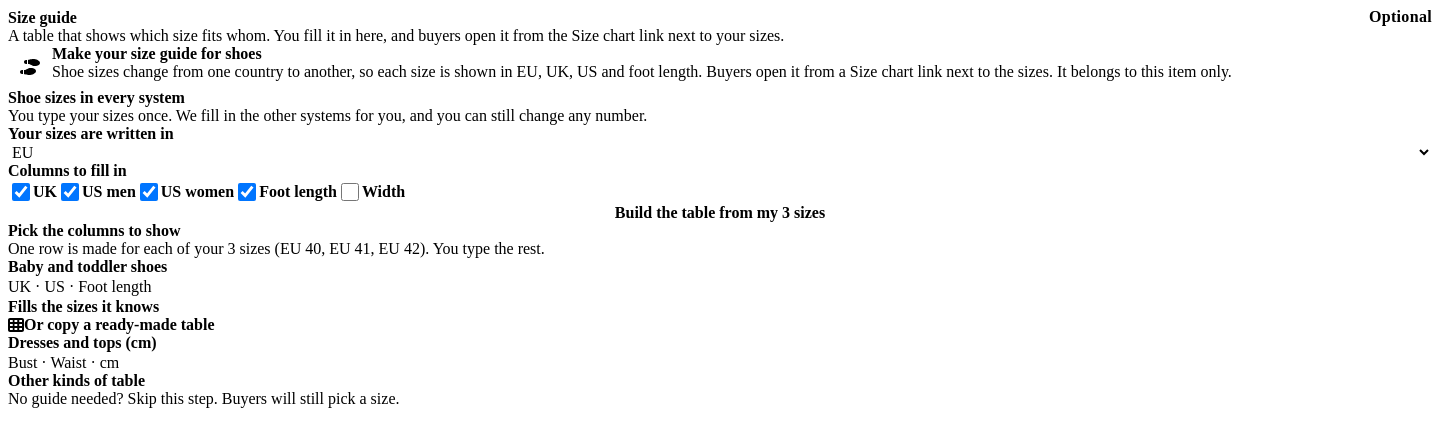
Test case: Size guide step (seller) › shoes: one tap builds the table from the sizes, with UK, US and foot length filled in, and nothing is saved yet
Expected: the text "Make your size guide for shoes" is shown, 52,45 -> 262,62
Step 1. Click the button "Build the table from my 3 sizes" → (720, 213), box 8,204 -> 1432,222
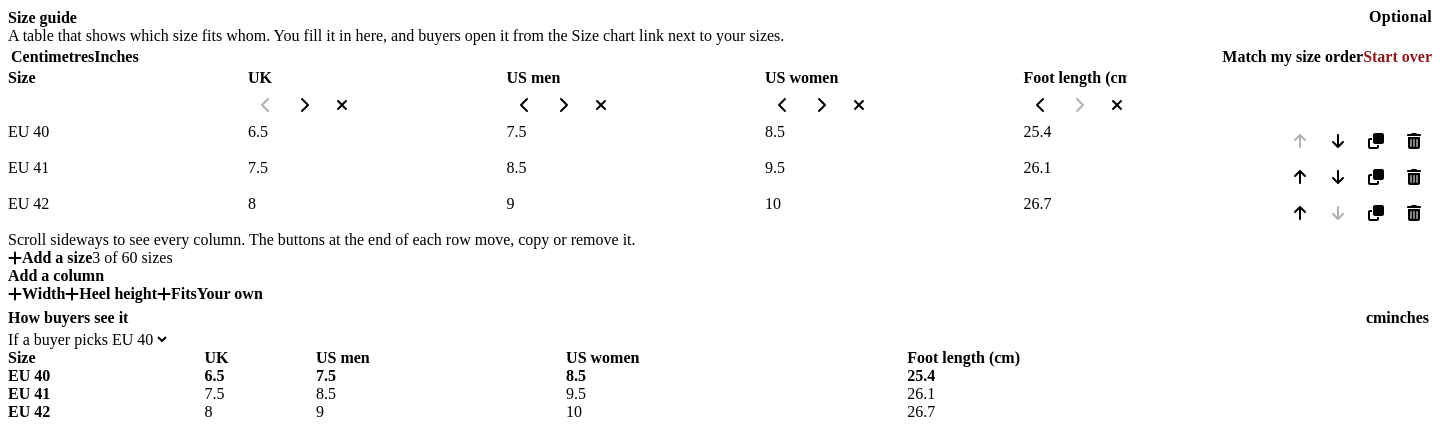
Expected: the field named "UK for EU 41" holds "7.5", 248,159 -> 352,177
